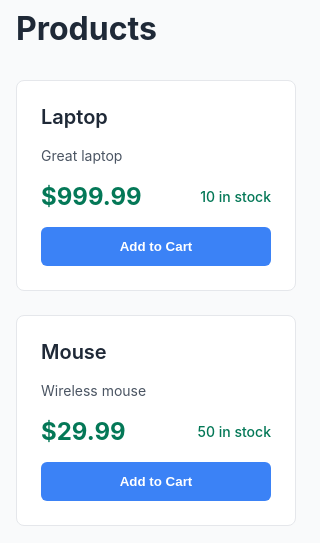
Home Component › shows error message when add to cart fails
Expected: the heading "Laptop" is shown, [41,104,108,128]
Click the button "Add to Cart" below "999.99": (156, 246) [41,226,271,266]
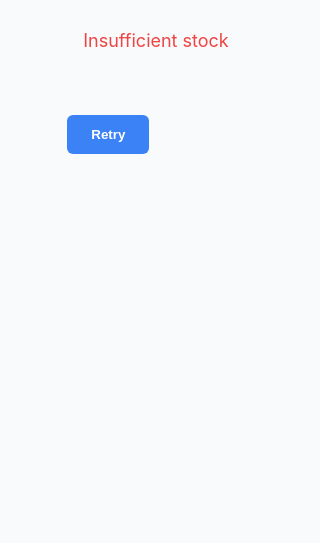
Now the text "Insufficient stock" is shown, box [83,30,229,51]
